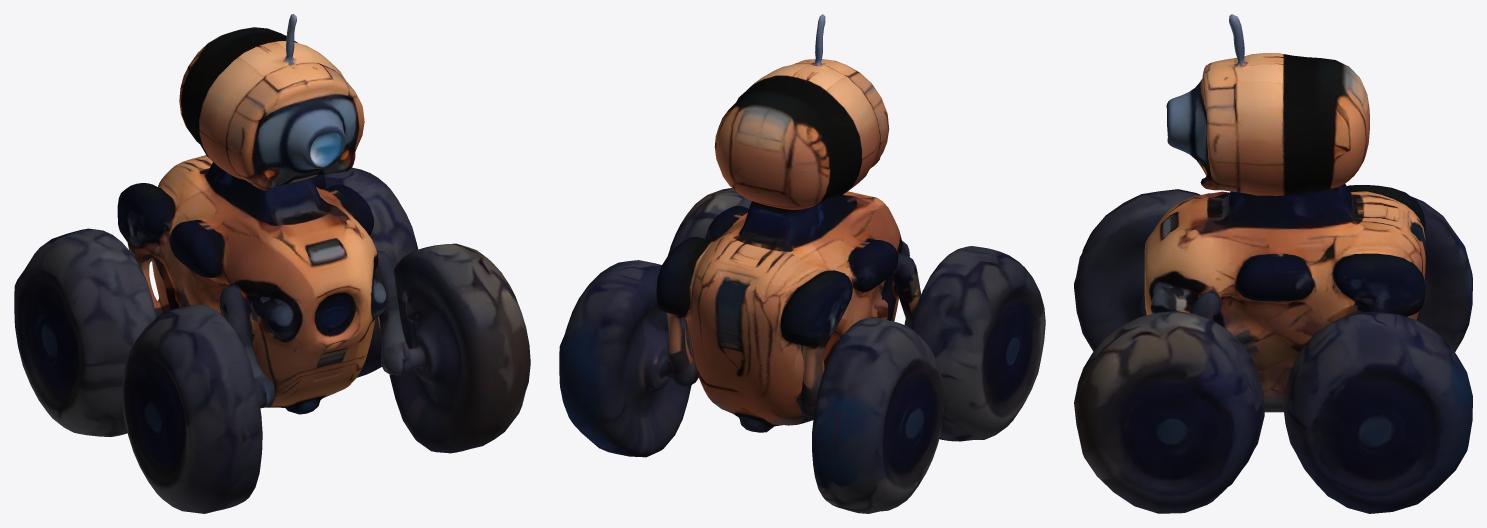
Rendered from object1_web.glb.
The picture shows the model from 3 angles, left to right: view 1: azimuth 30°, elevation 25°; view 2: azimuth 150°, elevation 25°; view 3: azimuth 270°, elevation 25°; orthographic projection. The views are drawn at different scales.
Visible parts, largest first — view 1: Object_2; view 2: Object_2; view 3: Object_2.
Part boxes in pixels (left/top/right/bottom): Object_2: left=14, top=14, right=530, bottom=513; Object_2: left=559, top=14, right=1045, bottom=513; Object_2: left=1074, top=14, right=1472, bottom=513.
Size of the model in its own units: 1.27 by 1.55 by 1.29.
1 material, 1 textured.
